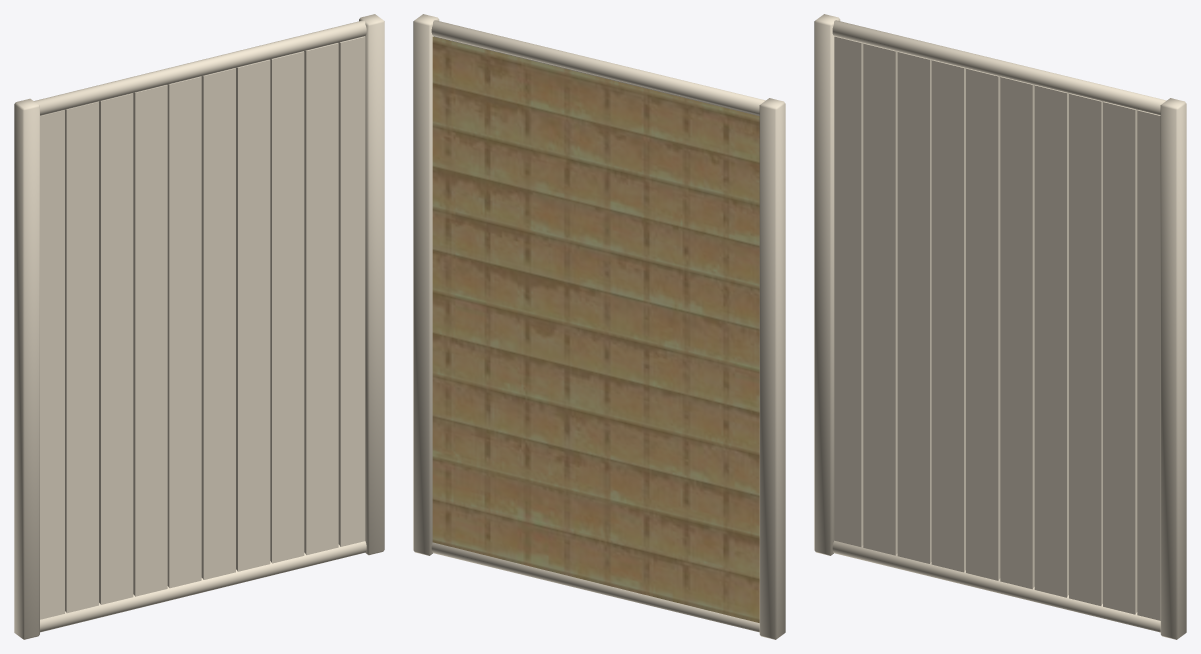
Rendered from SM_module_wall_01.glb.
3 renders of one model, left to right at view 1: azimuth 30°, elevation 25°; view 2: azimuth 150°, elevation 25°; view 3: azimuth 330°, elevation 25°, orthographic.
Parts seen in each view (by area): view 1: SM_module_wall_01; view 2: SM_module_wall_01; view 3: SM_module_wall_01.
Part boxes in pixels (box(x1,y1,x2,y2)): SM_module_wall_01: box(14, 14, 384, 639); SM_module_wall_01: box(413, 14, 785, 639); SM_module_wall_01: box(814, 14, 1186, 639).
Size of the model in its own units: 2 by 2.8 by 0.1.
Materials: 2 (1 with a texture image).
